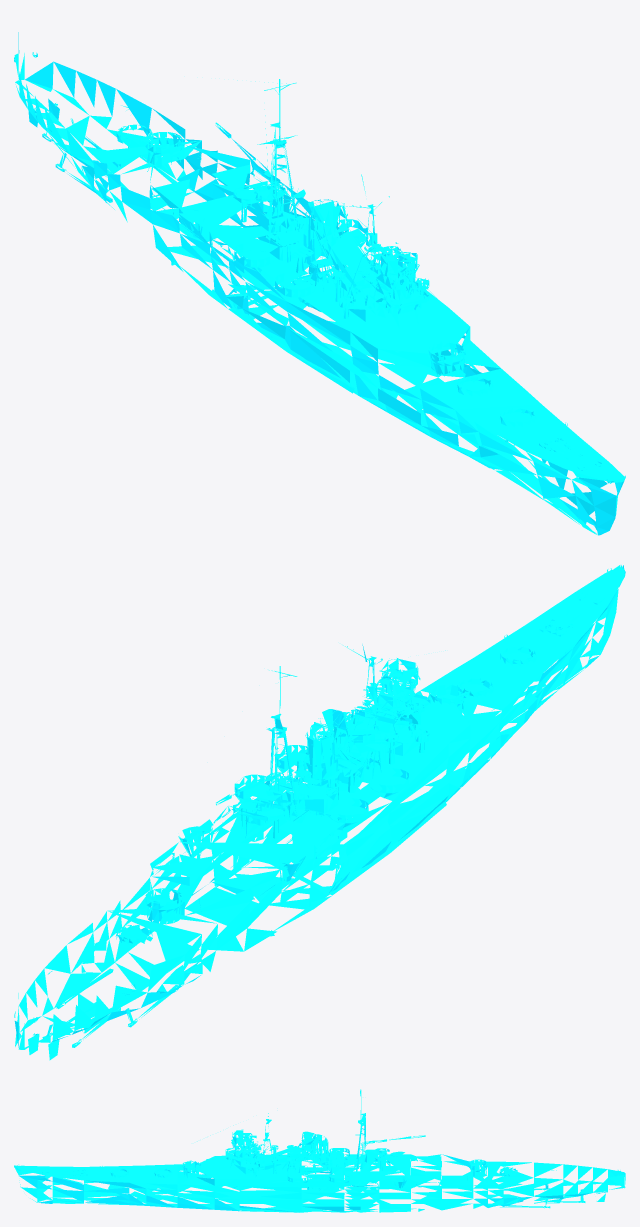
Rendered from Mogami.glb.
3 renders of one model, top to bottom at view 1: azimuth 30°, elevation 25°; view 2: azimuth 150°, elevation 25°; view 3: azimuth 270°, elevation 25°, orthographic. The views are drawn at different scales.
Size of the model in its own units: 1.59 by 2.76 by 13.37.
